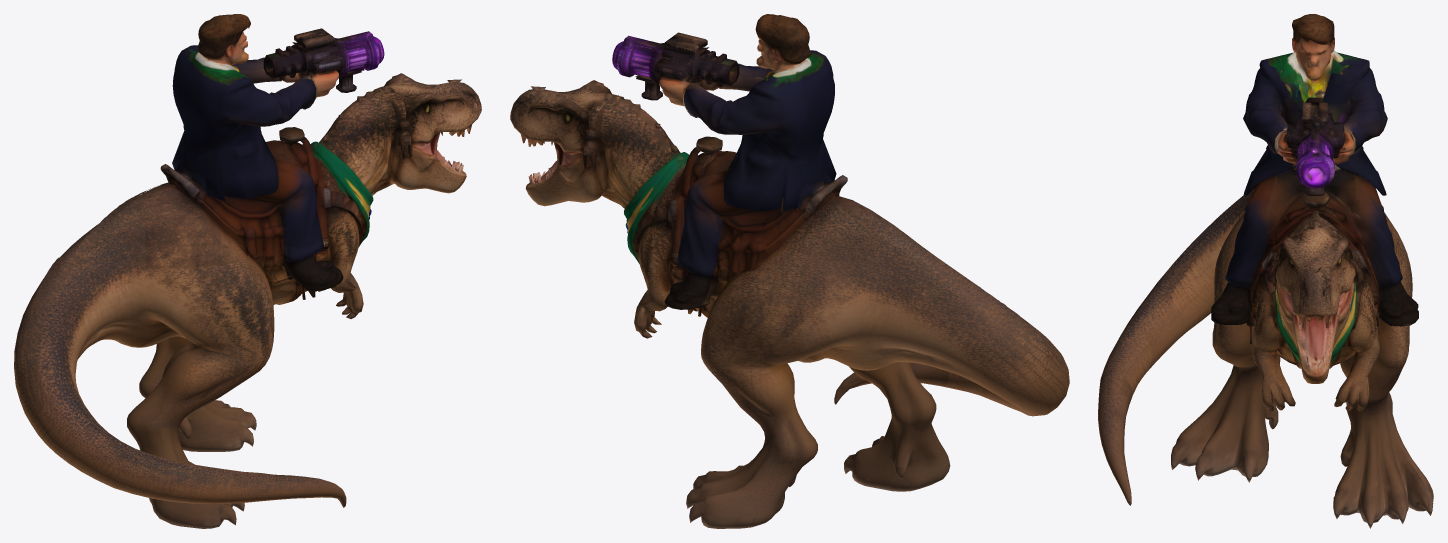
File: player.glb
3 renders of one model, left to right at view 1: azimuth 30°, elevation 25°; view 2: azimuth 150°, elevation 25°; view 3: azimuth 270°, elevation 25°, orthographic. The views are drawn at different scales.
Visible parts, largest first — view 1: material; view 2: material; view 3: material.
Part boxes in pixels (left/top/right/bottom): material: left=14, top=14, right=481, bottom=528; material: left=510, top=14, right=1069, bottom=528; material: left=1098, top=14, right=1433, bottom=528.
Size of the model in its own units: 1.9 by 1.67 by 1.05.
Materials: 1 (1 with a texture image).
